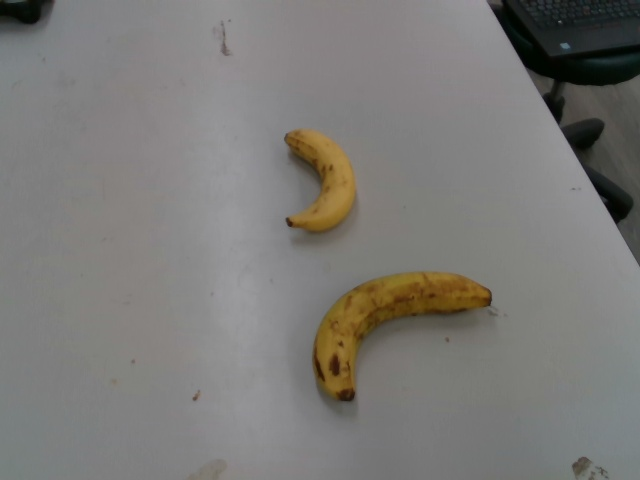banana: (311, 269, 493, 403), (278, 125, 358, 234)
